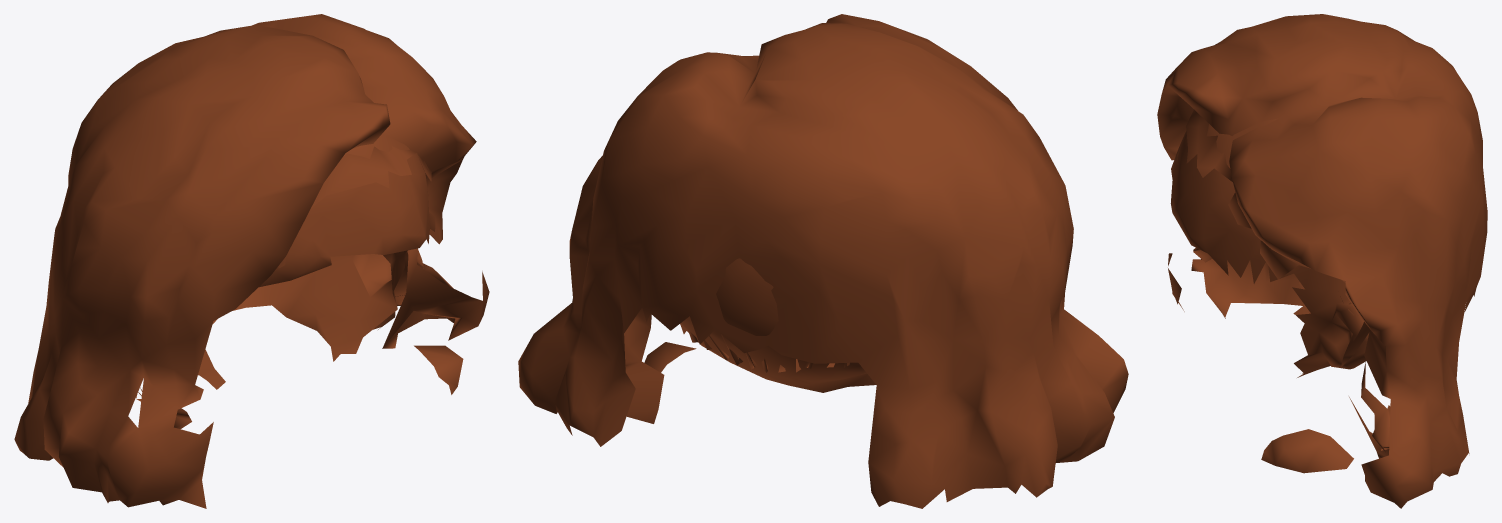
The model's file is long-wavy.glb.
3 renders of one model, left to right at view 1: azimuth 30°, elevation 25°; view 2: azimuth 150°, elevation 25°; view 3: azimuth 270°, elevation 25°, orthographic. The views are drawn at different scales.
Visible parts, largest first — view 1: Hair, HairScalp; view 2: Hair, HairScalp, HairPulledRootStrands; view 3: Hair, HairScalp.
Boxes of the visible parts, x1,y1,x2,y2 form: Hair: (14,14,489,508); HairScalp: (198,133,429,389); Hair: (518,14,1128,508); HairScalp: (681,258,875,392); HairPulledRootStrands: (680,323,849,372); Hair: (1157,14,1487,508); HairScalp: (1170,118,1368,377).
Bounding box in the file's own units: 0.7414 × 0.5194 × 0.4381.
